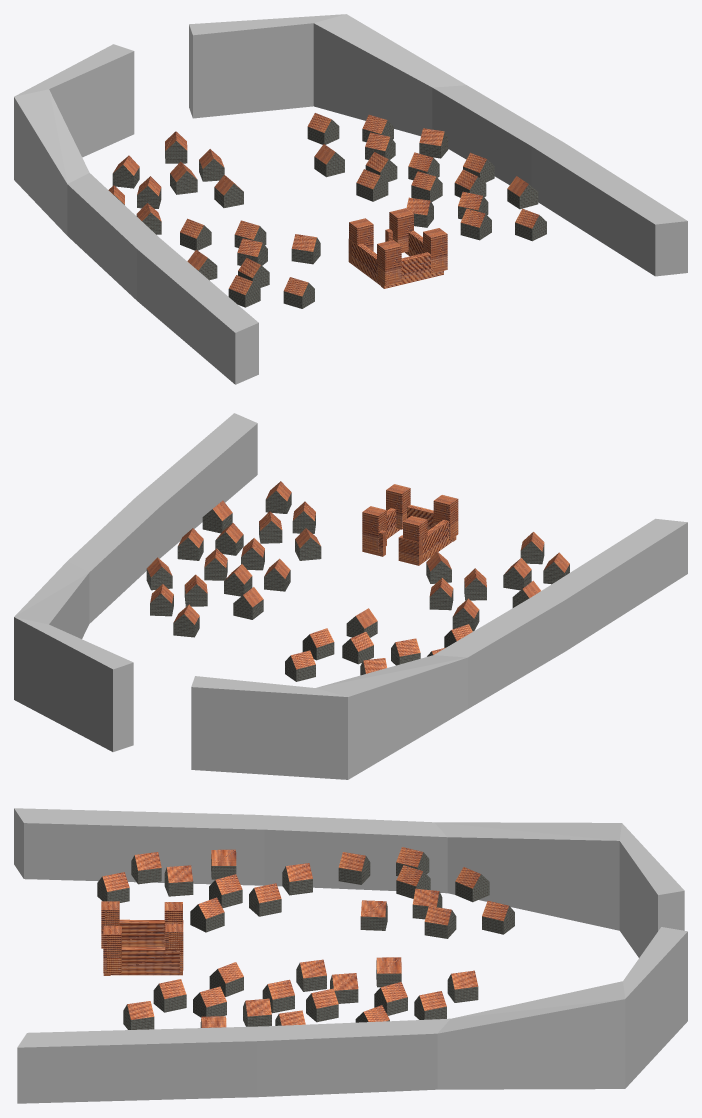
Rendered from kkingdom.obj.
The picture shows the model from 3 angles, top to bottom: view 1: azimuth 30°, elevation 25°; view 2: azimuth 150°, elevation 25°; view 3: azimuth 270°, elevation 25°; orthographic projection. The views are drawn at different scales.
Visible parts, largest first — view 1: Cube, Cube.002, Plane.010, Plane.005, Plane.013, Plane.044, Plane.004, Plane.045, Plane.043, Plane.048, Plane.011, Plane.040 (+19 smaller); view 2: Cube, Cube.002, Plane.053, Plane.055, Plane.054, Plane.008, Plane.016, Plane.002, Plane.007, Plane.010, Plane.009, Plane.013 (+18 smaller); view 3: Cube, Cube.002, Plane.048, Plane.005, Plane.049, Plane.046, Plane.003, Plane.052, Plane.053, Plane.054, Plane.013, Plane.043 (+19 smaller).
Part boxes in pixels (x1=…): Cube: x1=14, y1=14, x2=687, y2=384; Cube.002: x1=348, y1=208, x2=447, y2=288; Plane.010: x1=356, y1=169, x2=388, y2=201; Plane.005: x1=460, y1=208, x2=491, y2=240; Plane.013: x1=307, y1=113, x2=339, y2=144; Plane.044: x1=283, y1=277, x2=314, y2=308; Plane.004: x1=515, y1=208, x2=546, y2=241; Plane.045: x1=180, y1=218, x2=211, y2=250; Plane.043: x1=228, y1=275, x2=260, y2=307; Plane.048: x1=291, y1=234, x2=320, y2=264; Plane.011: x1=411, y1=171, x2=442, y2=201; Plane.040: x1=419, y1=128, x2=448, y2=158; Cube: x1=14, y1=413, x2=687, y2=779; Cube.002: x1=362, y1=484, x2=458, y2=565; Plane.053: x1=285, y1=650, x2=315, y2=681; Plane.055: x1=342, y1=632, x2=373, y2=664; Plane.054: x1=302, y1=628, x2=334, y2=660; Plane.008: x1=233, y1=587, x2=263, y2=619; Plane.016: x1=202, y1=500, x2=232, y2=533; Plane.002: x1=177, y1=528, x2=203, y2=560; Plane.007: x1=295, y1=528, x2=321, y2=560; Plane.010: x1=264, y1=558, x2=290, y2=591; Plane.009: x1=224, y1=564, x2=252, y2=596; Plane.013: x1=173, y1=604, x2=199, y2=637; Cube: x1=14, y1=808, x2=687, y2=1103; Cube.002: x1=101, y1=901, x2=183, y2=975; Plane.048: x1=190, y1=897, x2=224, y2=932; Plane.005: x1=153, y1=979, x2=186, y2=1012; Plane.049: x1=455, y1=867, x2=489, y2=902; Plane.046: x1=249, y1=883, x2=281, y2=916; Plane.003: x1=306, y1=988, x2=338, y2=1022; Plane.052: x1=338, y1=852, x2=370, y2=884; Plane.053: x1=482, y1=901, x2=514, y2=934; Plane.054: x1=424, y1=906, x2=456, y2=938; Plane.013: x1=447, y1=970, x2=478, y2=1002; Plane.043: x1=131, y1=852, x2=161, y2=884.
Size of what is drawn, in the model's own units: 11.42 by 2 by 13.59.
